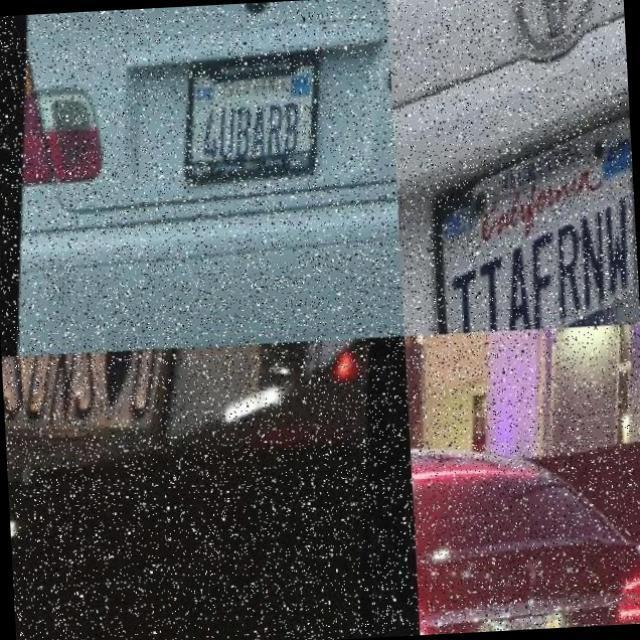License Plate: (438, 117, 640, 333), (1, 348, 187, 488), (185, 56, 327, 186), (494, 615, 568, 631)
